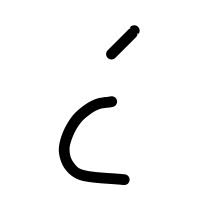o: (46, 89, 166, 208)
